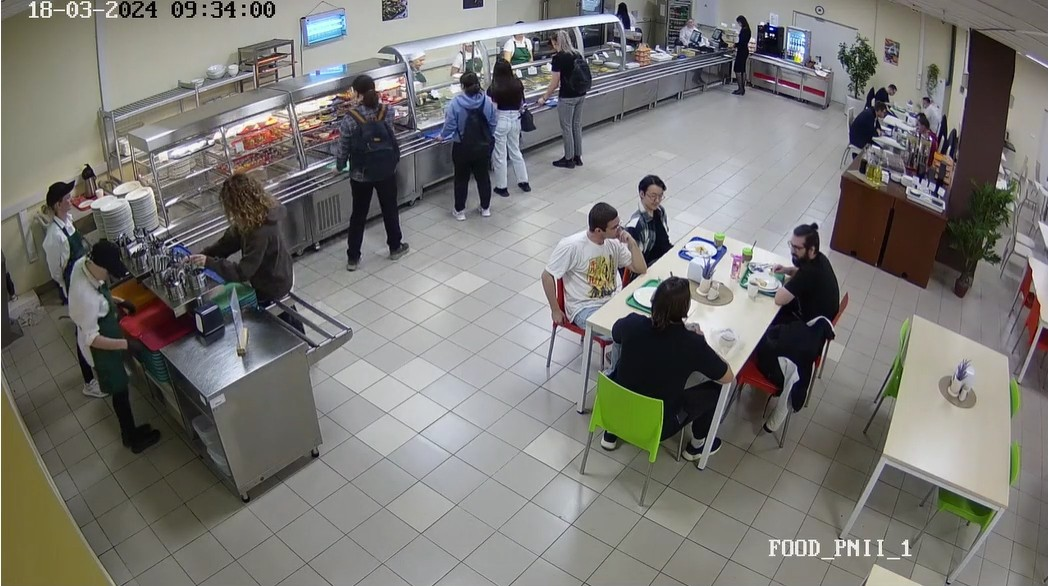Na_Kasse: (729, 12, 750, 96)
Personal: (39, 241, 274, 480), (29, 172, 90, 255), (504, 17, 533, 63), (402, 43, 429, 87), (454, 32, 482, 74), (612, 0, 636, 41), (677, 12, 702, 44)
Vybiraet: (323, 72, 423, 270), (199, 169, 307, 300), (439, 71, 499, 224), (540, 27, 593, 165), (490, 58, 536, 193)
Za_Stolom: (576, 285, 728, 491), (542, 189, 649, 349), (760, 212, 838, 326), (636, 173, 678, 236), (848, 95, 883, 151), (911, 112, 940, 156), (867, 78, 905, 109), (919, 91, 941, 123)
